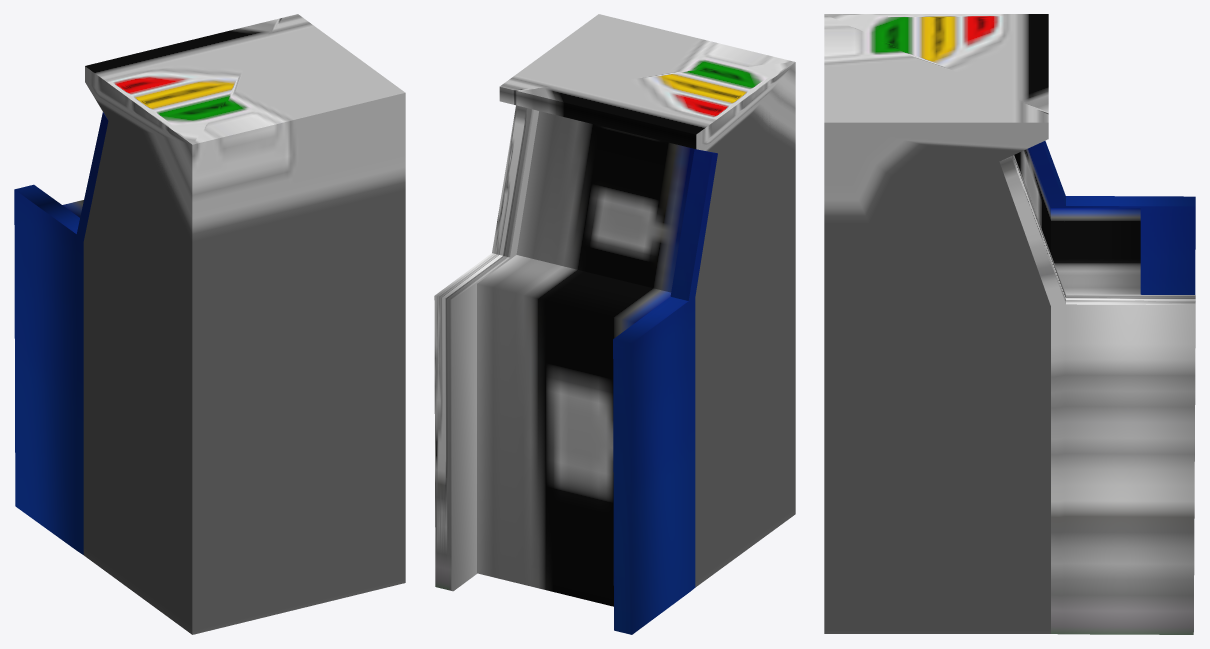
Rendered from atm.obj.
The picture shows the model from 3 angles, left to right: view 1: azimuth 30°, elevation 25°; view 2: azimuth 150°, elevation 25°; view 3: azimuth 270°, elevation 25°; orthographic projection. The views are drawn at different scales.
Parts seen in each view (by area): view 1: pCube1, atm_pCube1; view 2: pCube1, atm_pCube1; view 3: pCube1, atm_pCube1.
Boxes of the visible parts, box(x1,y1,x2,y2) form: pCube1: box(14, 14, 405, 634); atm_pCube1: box(83, 70, 192, 632); pCube1: box(434, 14, 795, 634); atm_pCube1: box(695, 63, 795, 582); pCube1: box(824, 14, 1195, 634); atm_pCube1: box(824, 123, 1050, 633).
Bounding box in the file's own units: 2.86 × 6.3 × 4.14.
Materials: 1 (1 with a texture image).
